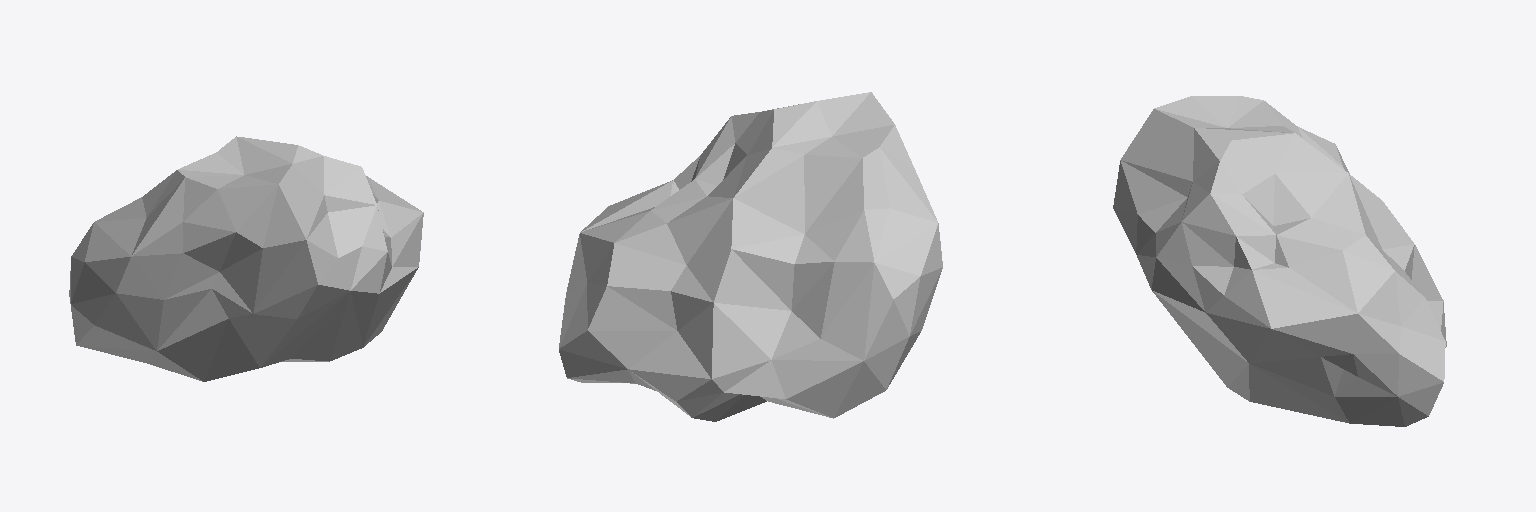
The model's file is stone.obj.
3 renders of one model, left to right at view 1: azimuth 30°, elevation 25°; view 2: azimuth 150°, elevation 25°; view 3: azimuth 270°, elevation 25°, orthographic.
Visible parts, largest first — view 1: Cube_Cube.002; view 2: Cube_Cube.002; view 3: Cube_Cube.002.
Part boxes in pixels (x1,y1,x2,y2): Cube_Cube.002: (69,136,423,381); Cube_Cube.002: (559,92,942,421); Cube_Cube.002: (1113,96,1446,426).
Bounding box in the file's own units: 2.5 × 1.87 × 2.21.